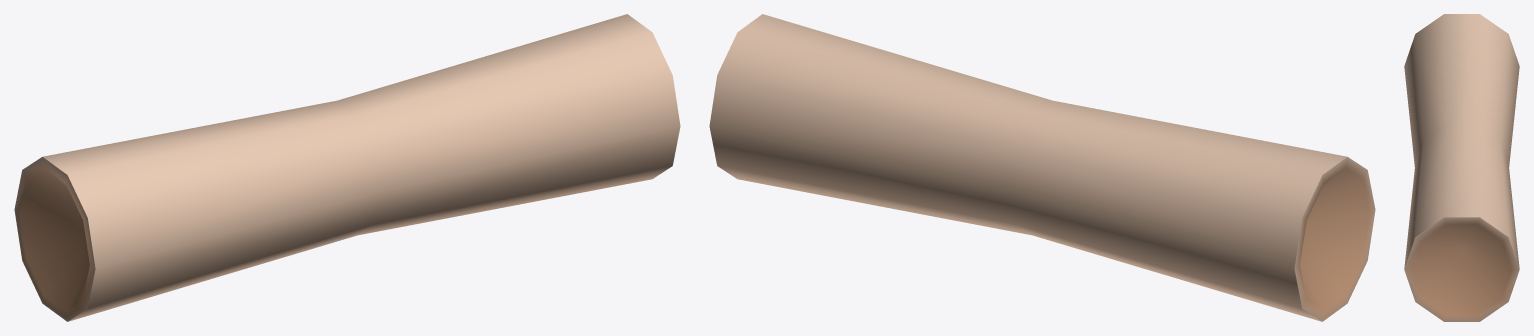
Rendered from PaperScroll1.fbx.
The picture shows the model from 3 angles, left to right: view 1: azimuth 30°, elevation 25°; view 2: azimuth 150°, elevation 25°; view 3: azimuth 270°, elevation 25°; orthographic projection. The views are drawn at different scales.
Visible parts, largest first — view 1: PaperScroll1; view 2: PaperScroll1; view 3: PaperScroll1.
Part boxes in pixels (x1,y1,x2,y2): PaperScroll1: [14, 14, 680, 321]; PaperScroll1: [709, 14, 1375, 321]; PaperScroll1: [1404, 14, 1519, 321].
Size of the model in its own units: 25 by 6 by 6.
